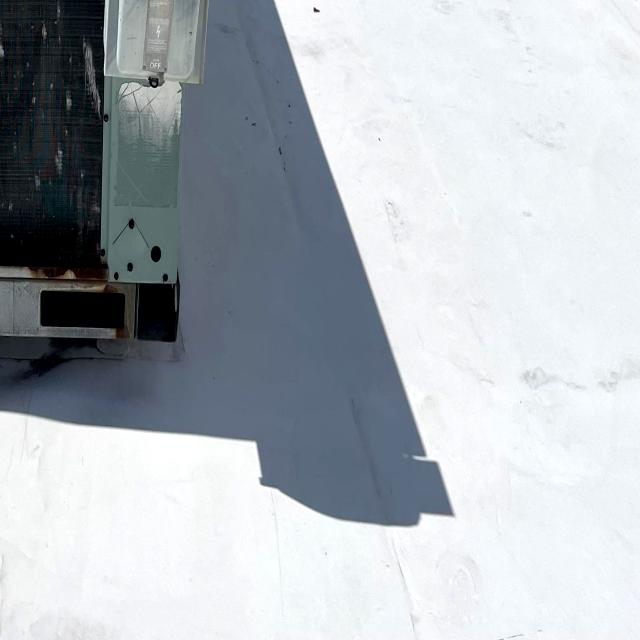RTU: (0, 0, 243, 408)
